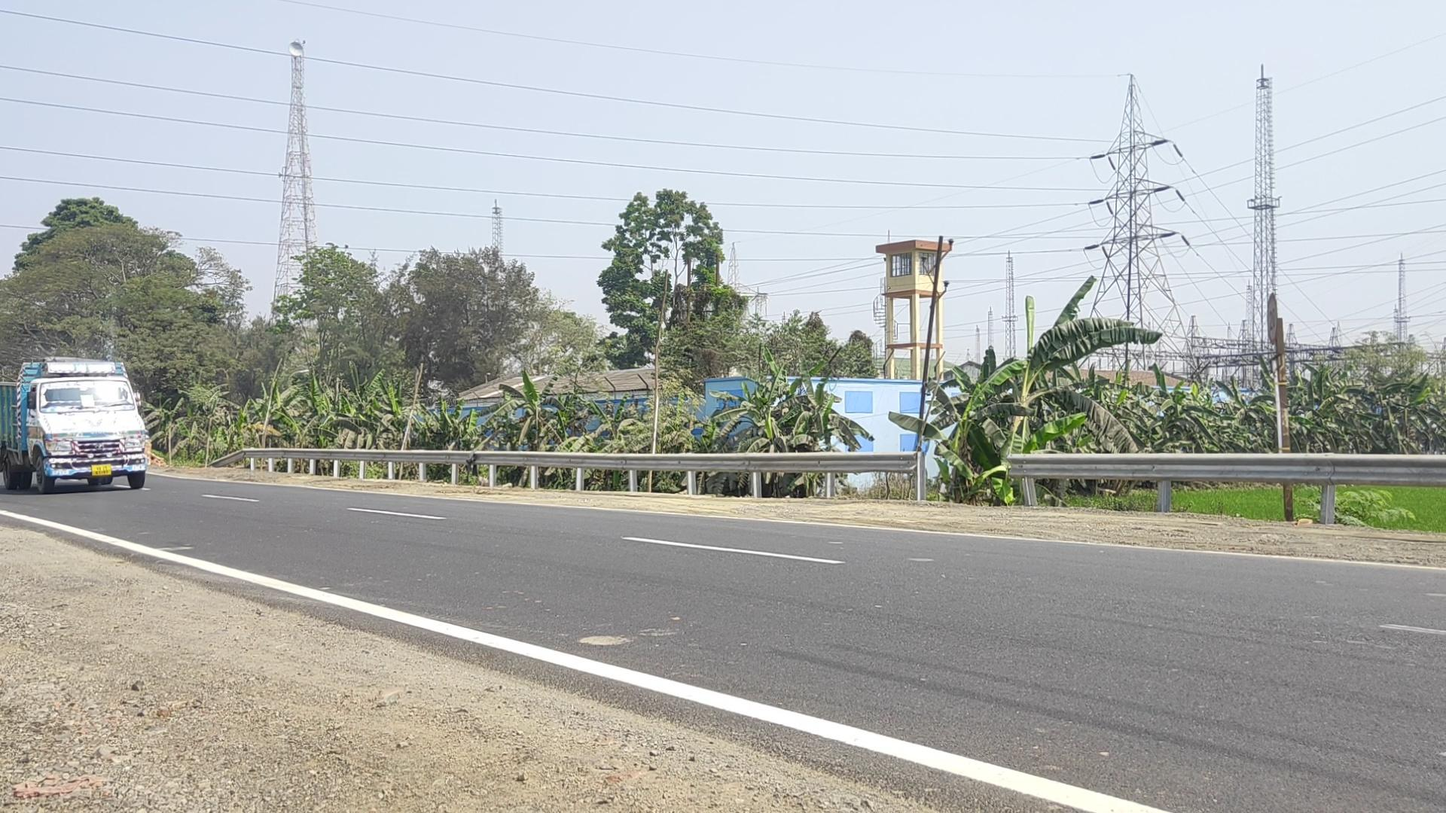truck: (1, 357, 148, 495)
